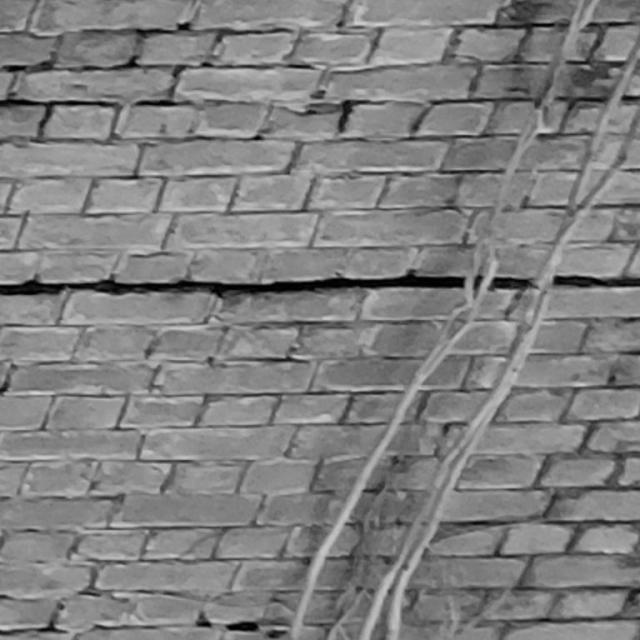crack: (1, 269, 640, 298)
